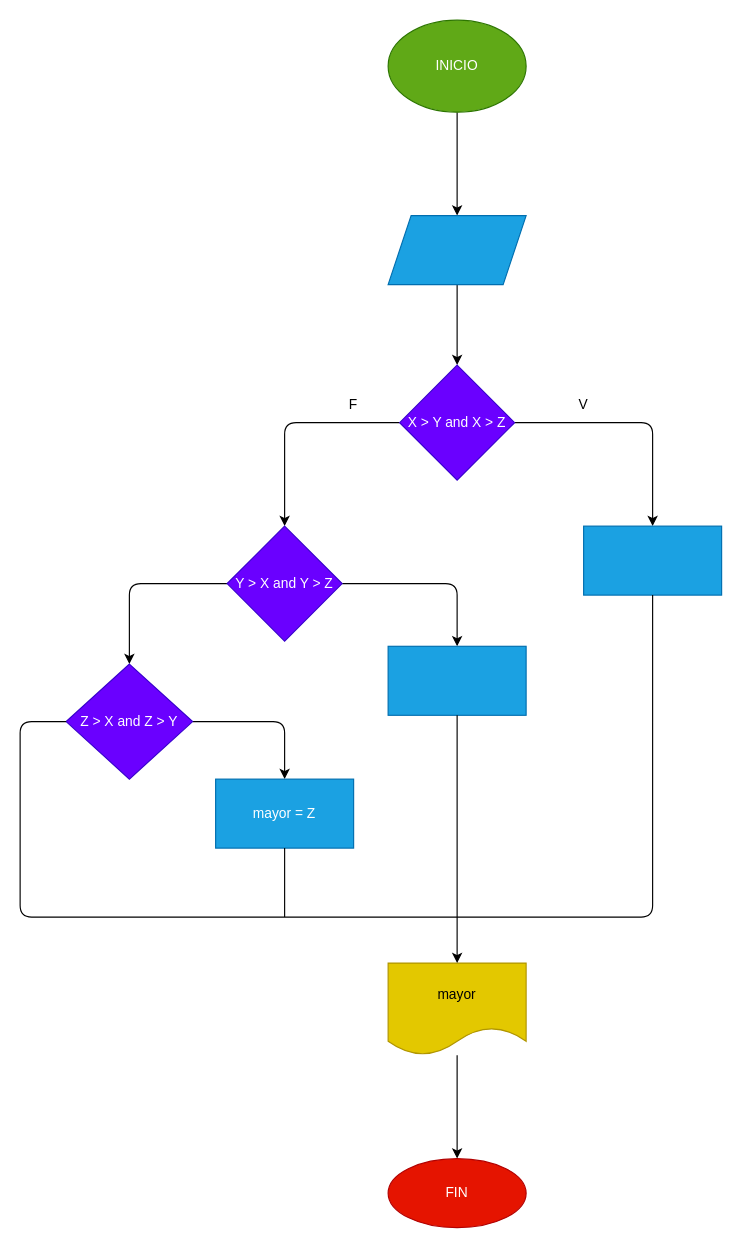
This 742x1248 diagram has some shape labels left out. Each missing label, with the centre of its shape:
mayor = X: [652,560]
mayor = Y: [456,680]
X , Y , Z: [456,249]
